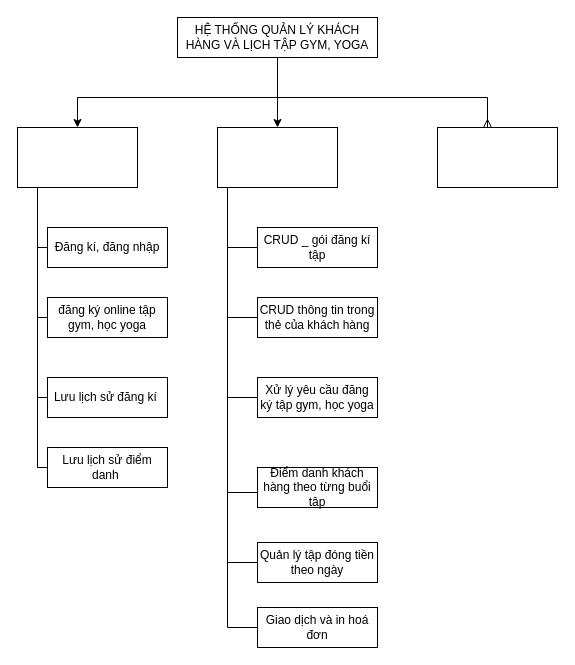
Some shapes in this 575 by 665 pixel diagram are drawn without their labels. The shapes that lost their labels are listed below. From the top down, each one's centre as x and y in pixels, then its label:
At [77,157]: "QUẢN LÝ KHÁCH HÀNG".
At [277,157]: "QUẢN LÝ TẬP GYM, YOGA".
At [497,157]: "THỐNG KÊ".
